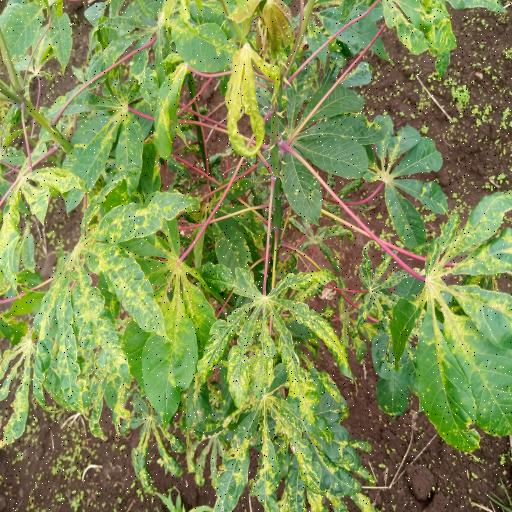Cassava_Mosaic: (28, 188, 196, 408), (411, 188, 512, 453), (155, 0, 297, 149), (200, 260, 355, 396), (210, 396, 379, 512)
